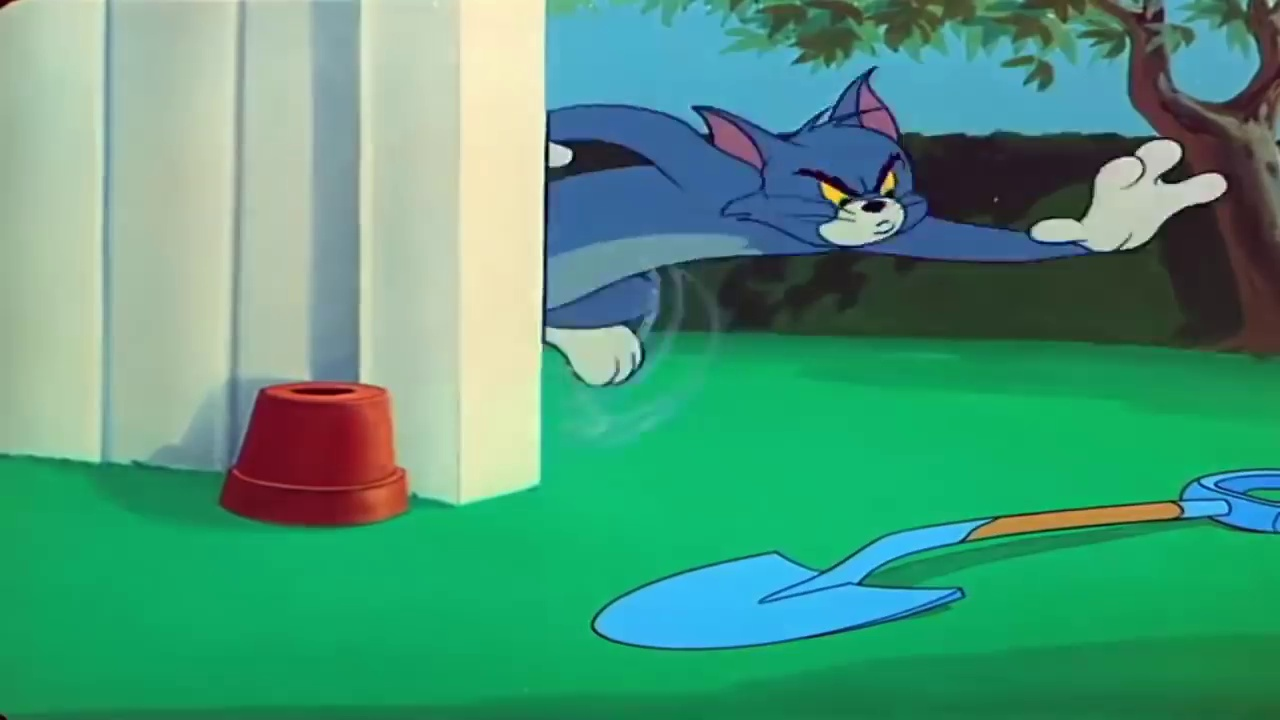tom: (688, 63, 933, 259)
